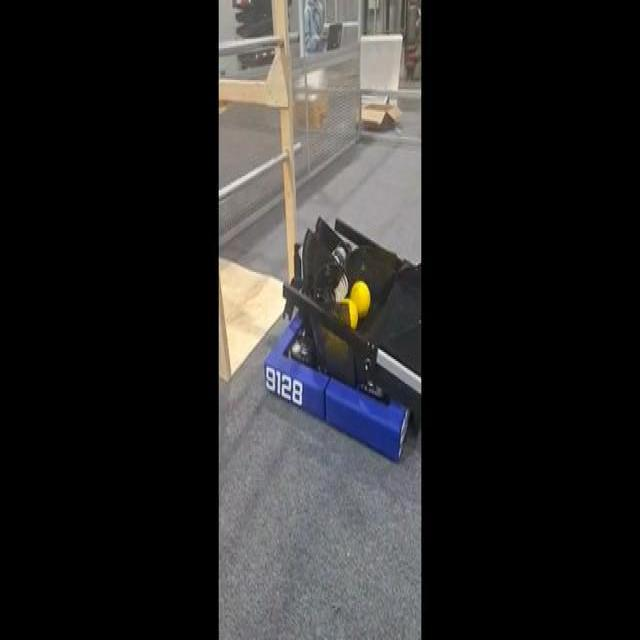Fuel: (350, 281, 370, 316), (341, 299, 357, 327)
